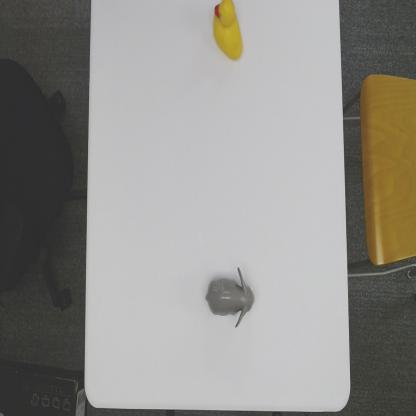Duck: (211, 2, 244, 61)
Elephant: (205, 264, 255, 330)
